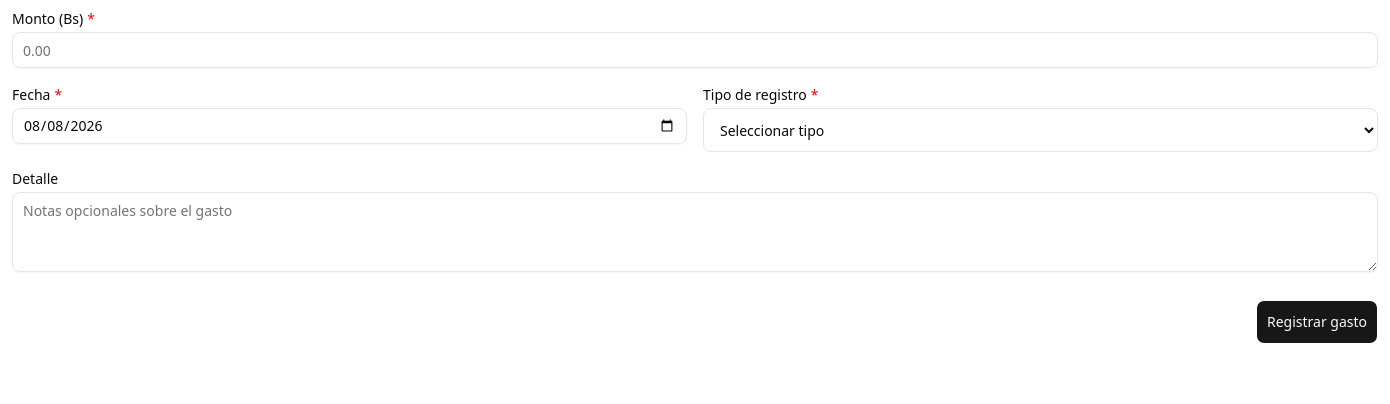
Scenario: MovimientoInversionForm › muestra error de validación si monto tiene formato inválido
This screenshot has width=1390, height=404.
In the field labelled "Monto (Bs) *": point(695, 50) [12,32,1378,68], type "abc"
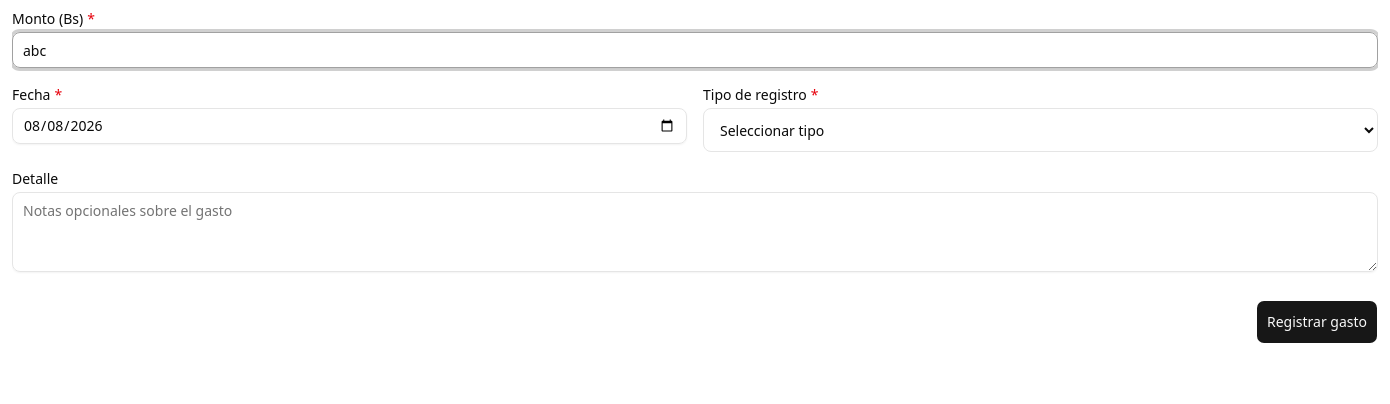
Click the button "Registrar gasto": point(1317, 322) [1256,300,1378,344]
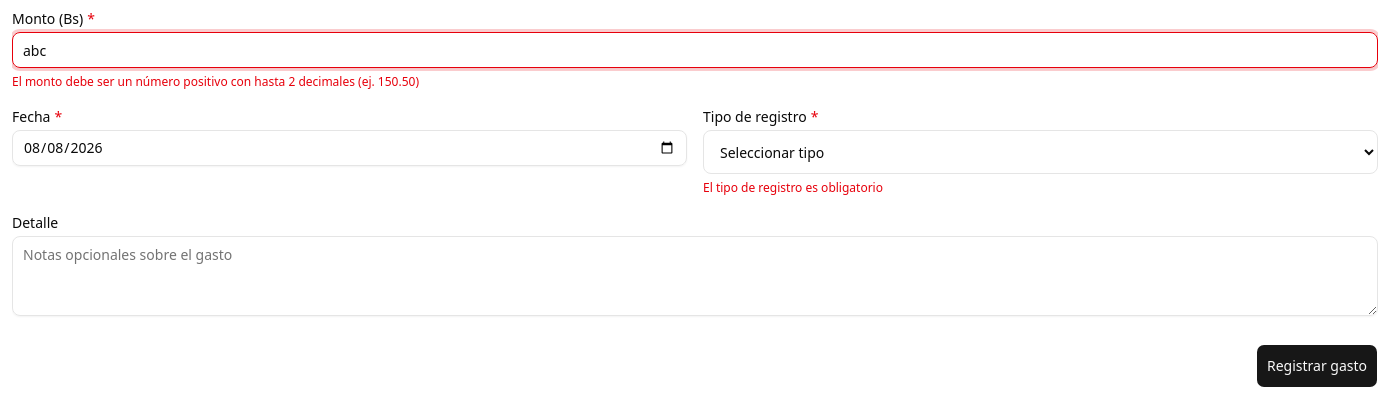
Expected: the text "número positivo con hasta 2 decimales" is shown, [12,73,419,90]
